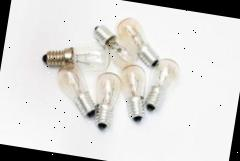lightbulb: (32, 3, 186, 139), (51, 61, 103, 118), (111, 14, 166, 67), (41, 34, 112, 74), (88, 22, 142, 70), (113, 62, 152, 122), (88, 69, 124, 131), (144, 54, 181, 113)
